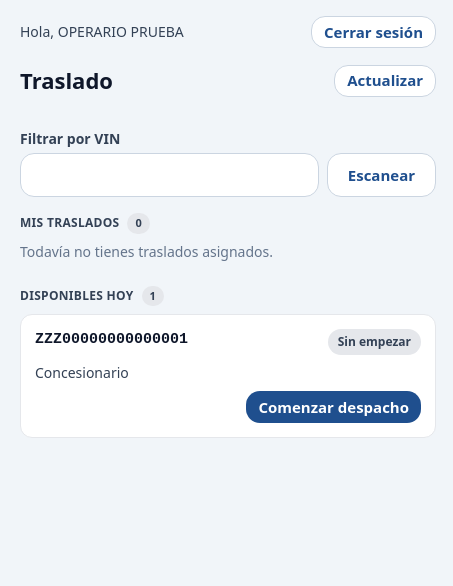
un VIN cuya orden ya salió (otra persona) › dice que la orden ya está tomada y quién la tiene, en vez de «sin orden pendiente»
Expected: the text "ZZZ00000000000001" is shown, [35,329,188,352]
Type "LVTDD24B6VDC81445" into the search field labelled "Filtrar por VIN" at (169, 175), box [20,153,319,197]
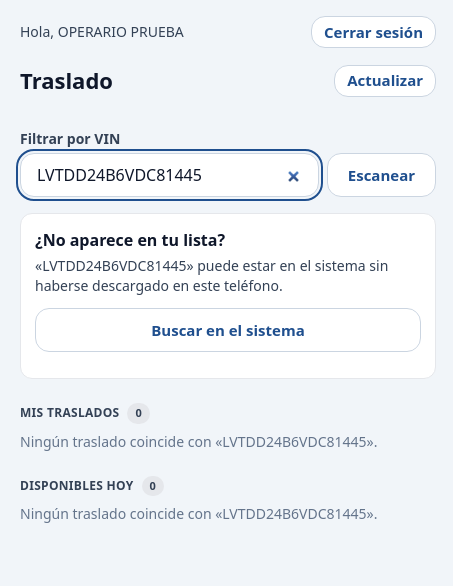
Click the button "Buscar en el sistema" at (228, 330), box [35,308,421,352]
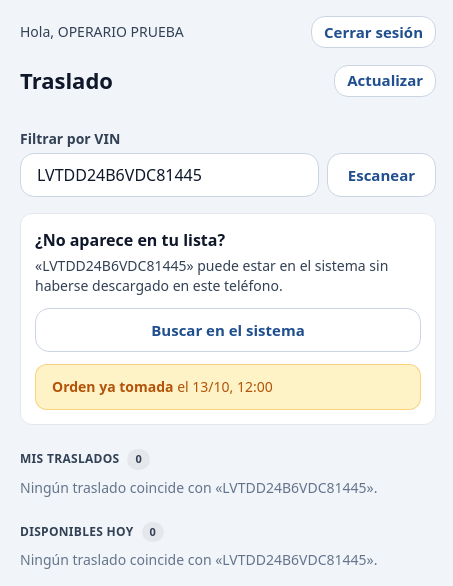
Expected: the button "Comenzar despacho" is not shown
Now the text "Orden ya tomada" reads "Orden ya tomada el 13/10, 12:00", box [35,364,421,410]
